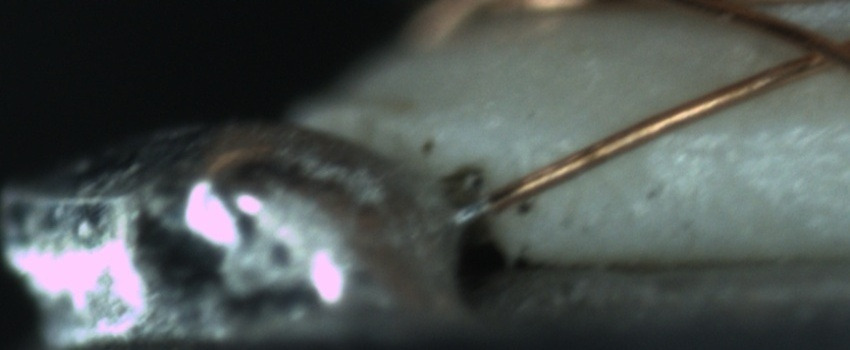CL: (779, 20, 847, 75)
DL: (629, 116, 850, 168)
TS: (447, 196, 492, 228)
